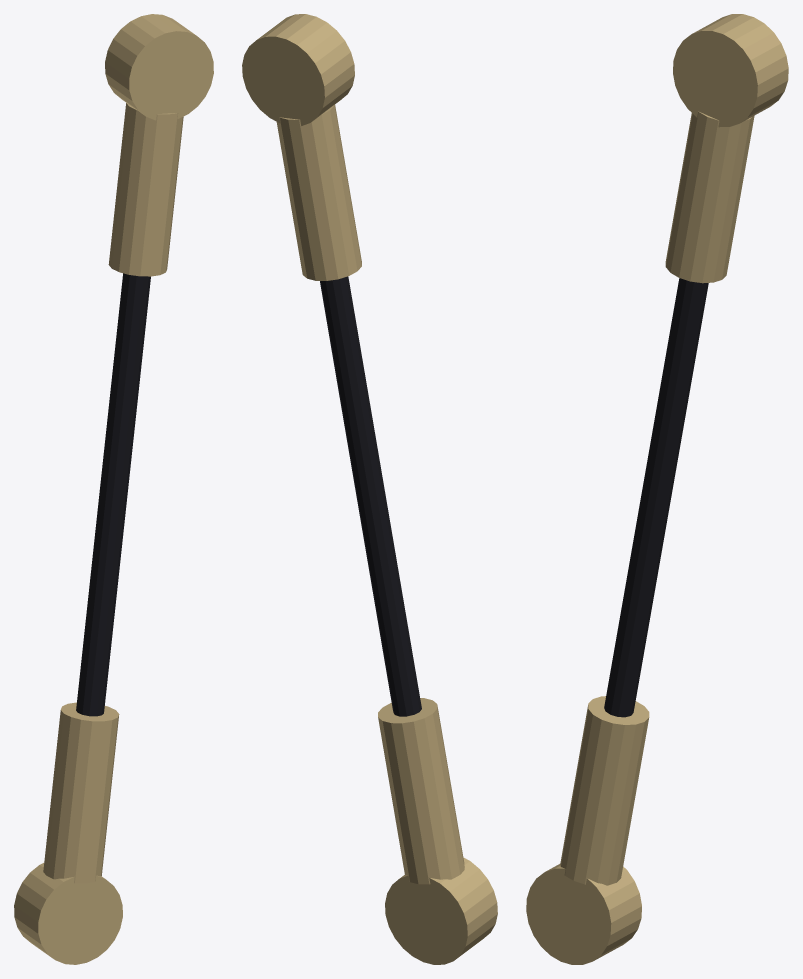
Rendered from drag_link_vis.obj.
The picture shows the model from 3 angles, left to right: view 1: azimuth 30°, elevation 25°; view 2: azimuth 150°, elevation 25°; view 3: azimuth 330°, elevation 25°; orthographic projection. The views are drawn at different scales.
Size of the model in its own units: 0.0163 by 0.0697 by 0.00767.
1 material, 1 textured.
